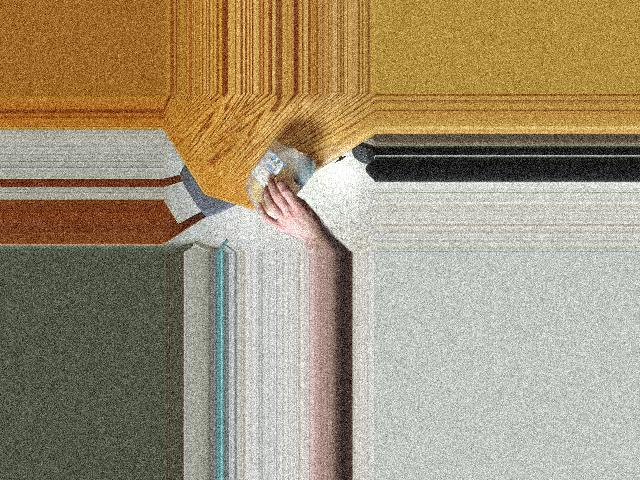cheese: (241, 138, 306, 223)
